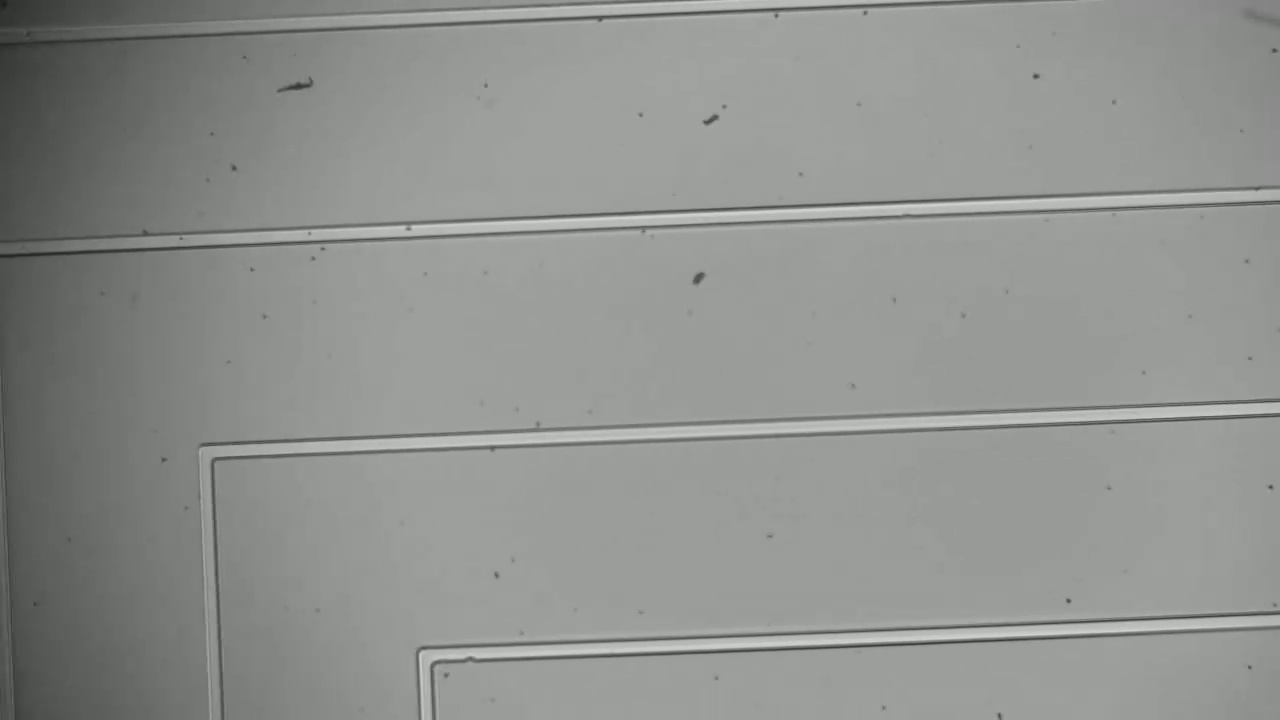edge_bite: (452, 632, 485, 673)
